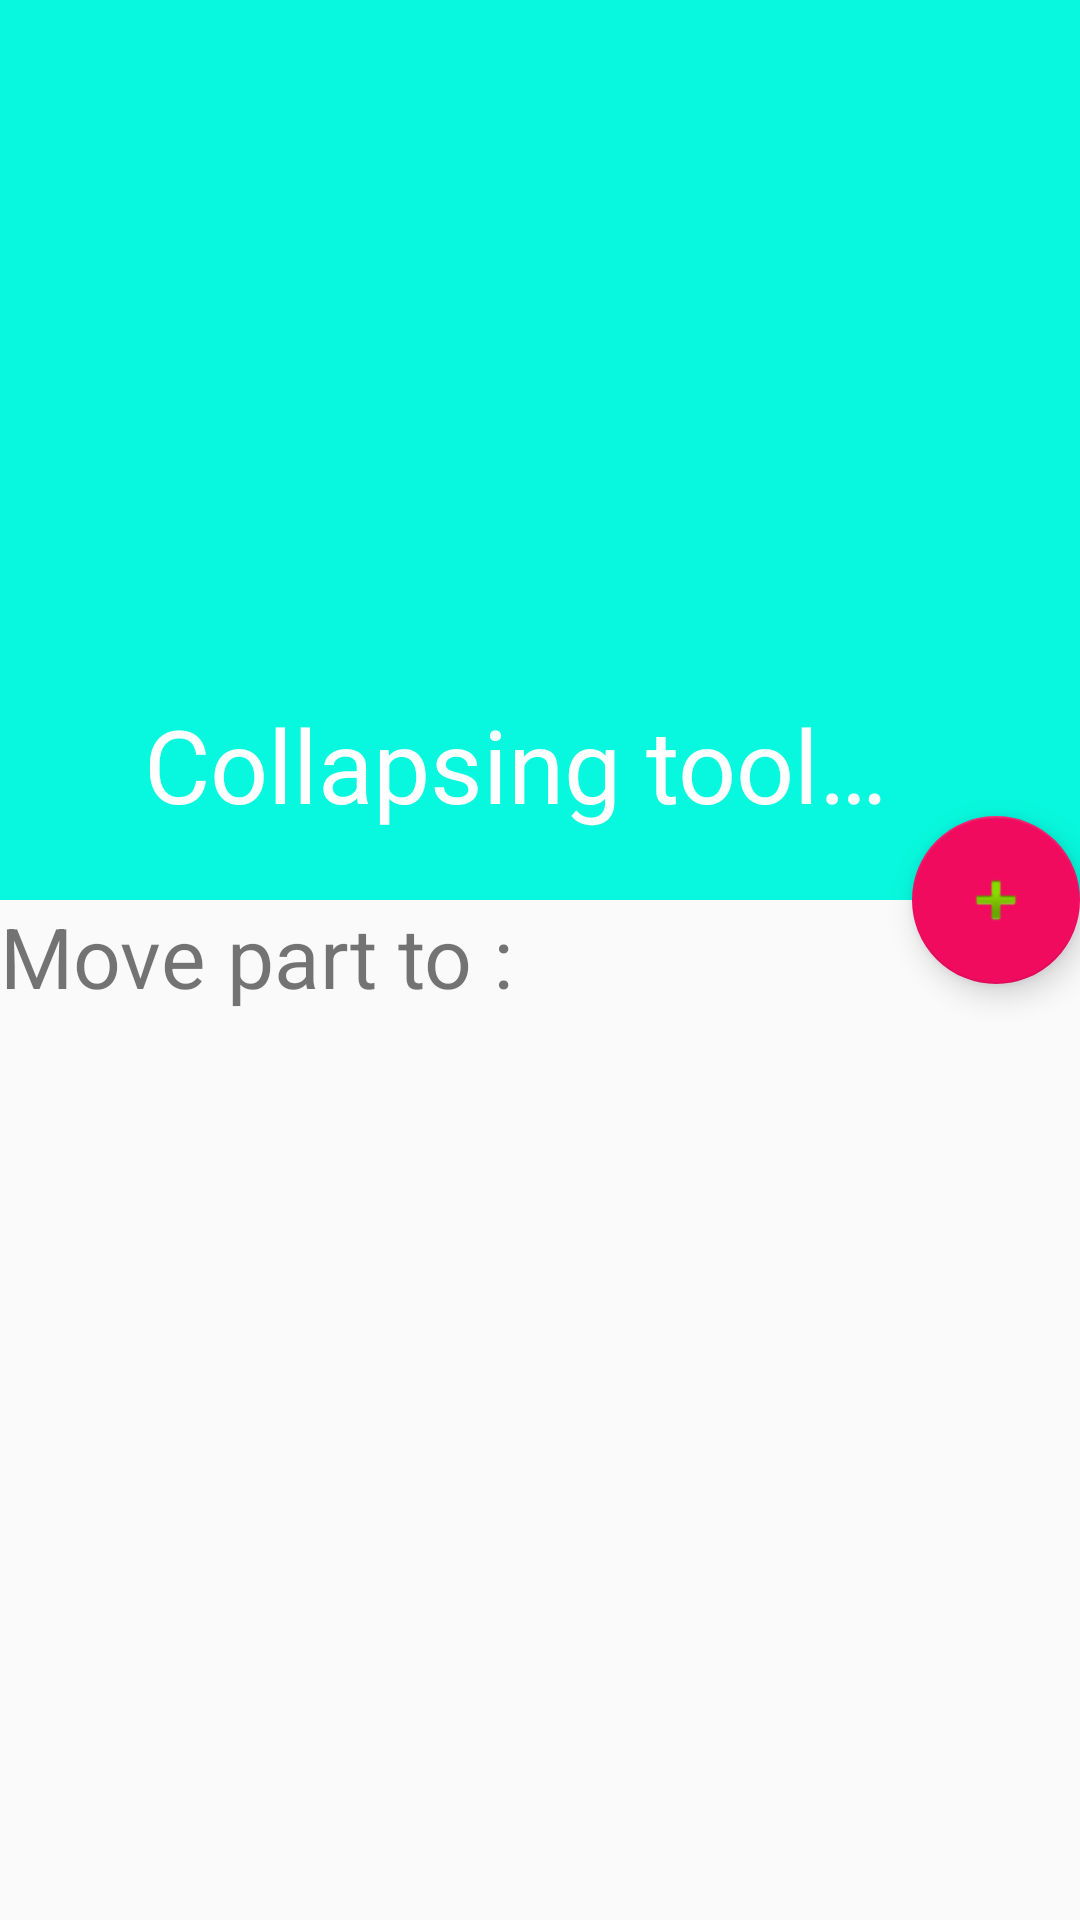

Screen size 1080px x 1920px. Icon name, then its center in pixels as (x=x, y=y):
add: (x=996, y=900)
